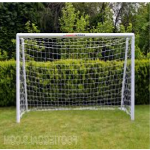goals: (15, 32, 136, 122)
